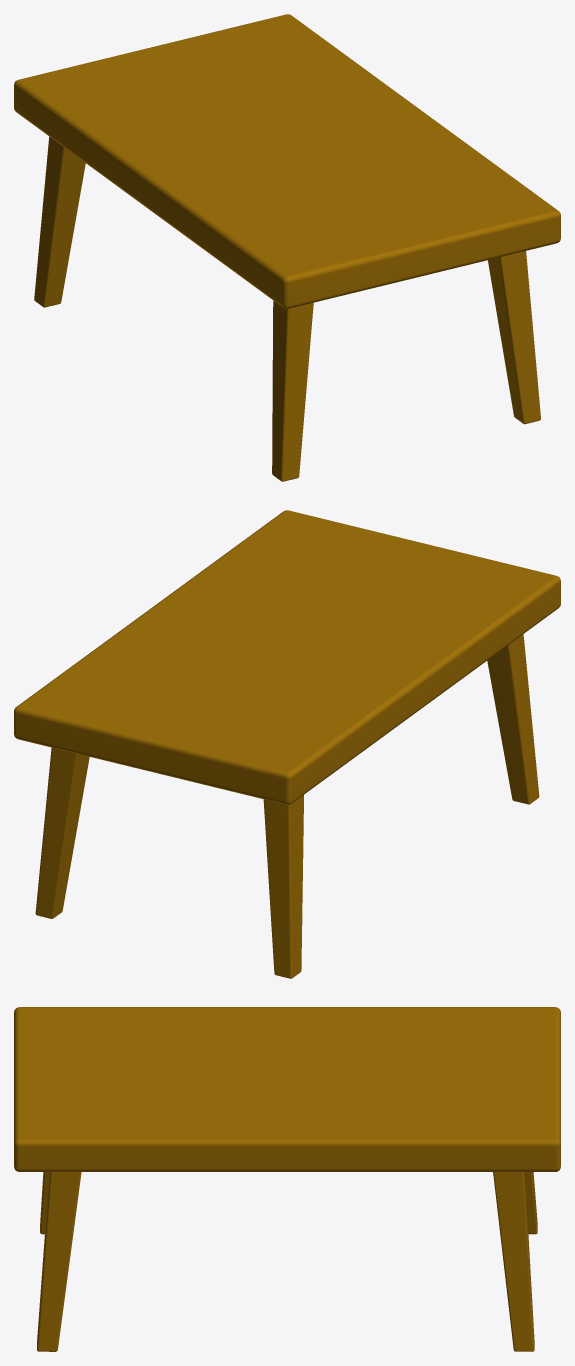
Rendered from table.fbx.
3 views of the same model, one above another, from view 1: azimuth 30°, elevation 25°; view 2: azimuth 150°, elevation 25°; view 3: azimuth 270°, elevation 25° (orthographic).
Parts seen in each view (by area): view 1: pCube2, pasted__pCube3, pasted__pasted__pasted__pCube3, pasted__pasted__pCube3; view 2: pCube2, pasted__pasted__pCube3, pCube3, pasted__pCube3; view 3: pCube2, pasted__pasted__pasted__pCube3, pCube3, pasted__pasted__pCube3.
Part boxes in pixels (box(x1,y1,x2,y2)): pCube2: box(14, 14, 560, 308); pasted__pCube3: box(272, 300, 313, 481); pasted__pasted__pasted__pCube3: box(488, 251, 540, 424); pasted__pasted__pCube3: box(34, 136, 85, 307); pCube2: box(14, 510, 560, 804); pasted__pasted__pCube3: box(263, 795, 303, 978); pCube3: box(35, 747, 89, 918); pasted__pCube3: box(487, 634, 539, 804); pCube2: box(14, 1007, 560, 1171); pasted__pasted__pasted__pCube3: box(37, 1172, 81, 1351); pCube3: box(493, 1172, 534, 1351); pasted__pasted__pCube3: box(525, 1172, 537, 1234).
Bounding box in the file's own units: 1.98 × 1.47 × 3.37.
